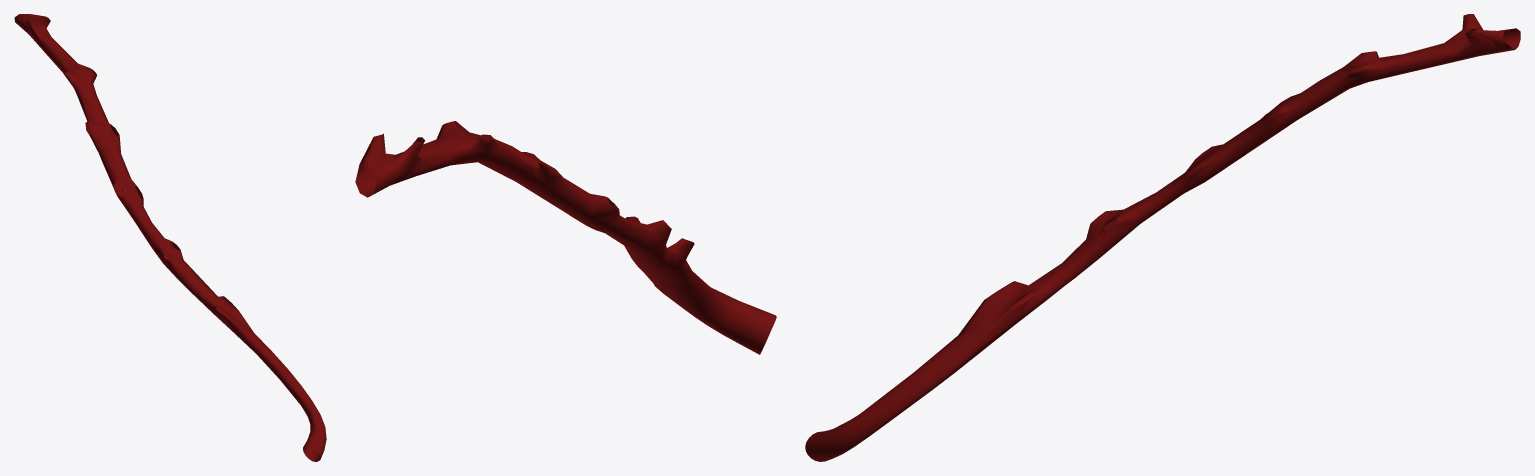
Rendered from aorta thoracica.fbx.
3 views of the same model, side by side, from view 1: azimuth 30°, elevation 25°; view 2: azimuth 150°, elevation 25°; view 3: azimuth 270°, elevation 25° (orthographic). The views are drawn at different scales.
Visible parts, largest first — view 1: aorta thoracica, aorta thoracica low; view 2: aorta thoracica, aorta thoracica low; view 3: aorta thoracica, aorta thoracica low.
Boxes of the visible parts, bbox=[...] form: aorta thoracica: bbox=[20, 14, 326, 461]; aorta thoracica low: bbox=[14, 14, 325, 461]; aorta thoracica: bbox=[355, 121, 776, 354]; aorta thoracica low: bbox=[356, 121, 774, 346]; aorta thoracica: bbox=[805, 14, 1520, 461]; aorta thoracica low: bbox=[815, 14, 1514, 461].
Size of the model in its own units: 5.6 by 18.52 by 29.37.
